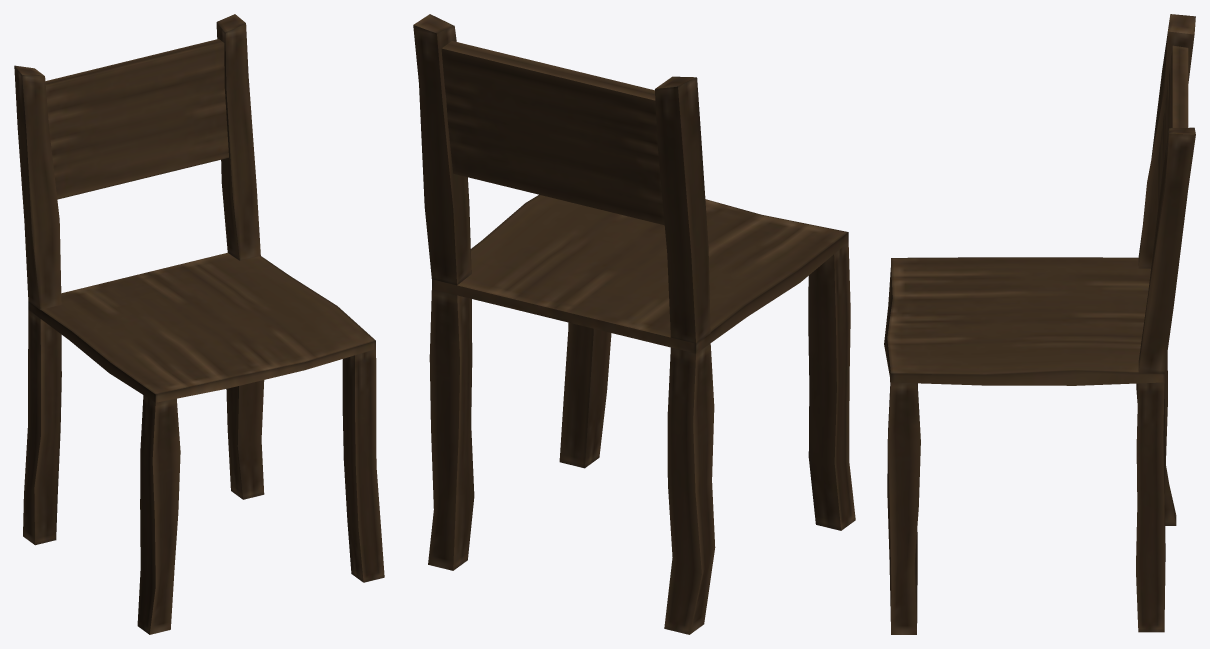
File: WoodenChair01_Geo.fbx
3 views of the same model, side by side, from view 1: azimuth 30°, elevation 25°; view 2: azimuth 150°, elevation 25°; view 3: azimuth 270°, elevation 25° (orthographic). The views are drawn at different scales.
Visible parts, largest first — view 1: Chair_Geo; view 2: Chair_Geo; view 3: Chair_Geo.
Part boxes in pixels (bbox=[...]): Chair_Geo: bbox=[14, 14, 384, 634]; Chair_Geo: bbox=[413, 14, 855, 634]; Chair_Geo: bbox=[884, 14, 1195, 634].
Size of the model in its own units: 5.33 by 10.06 by 5.7.
